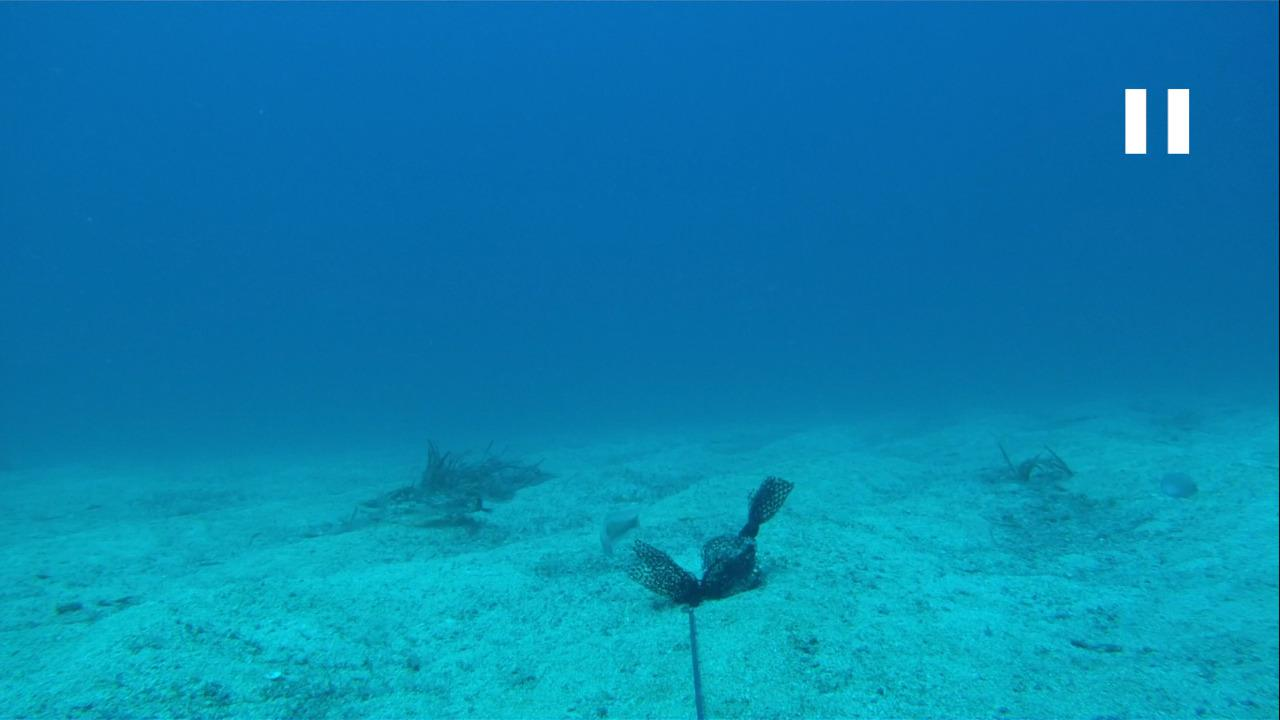dactylopterus: (333, 485, 489, 528)
raor: (592, 509, 650, 551), (1136, 467, 1206, 499)
